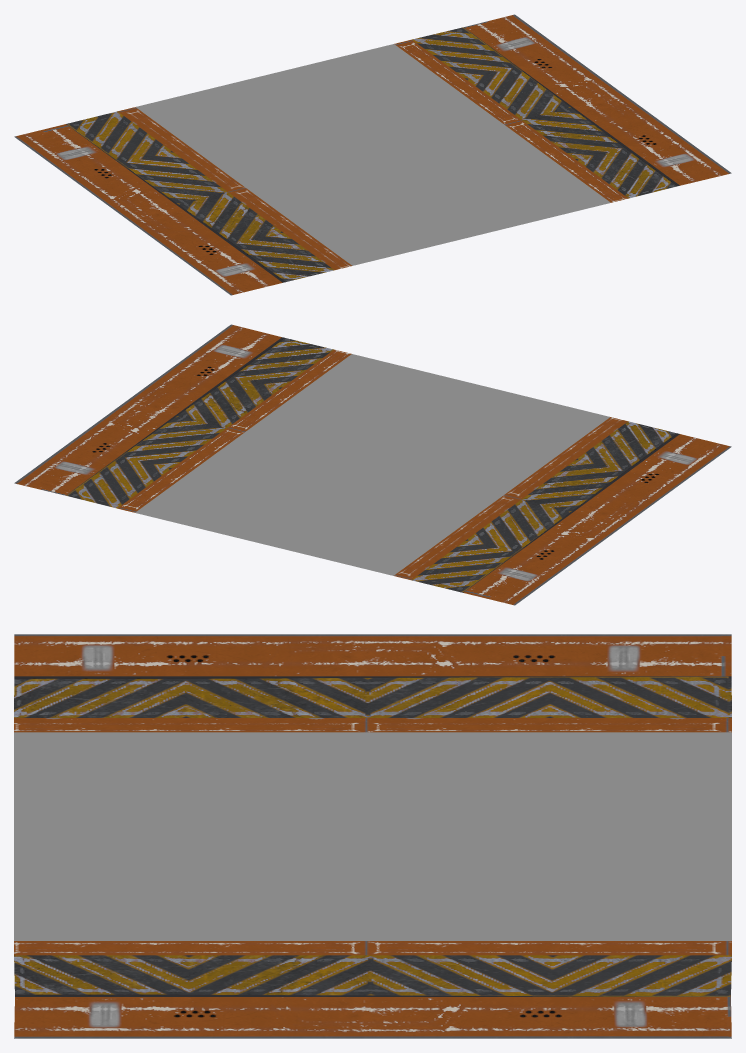
File: floor_s.FBX
3 renders of one model, top to bottom at view 1: azimuth 30°, elevation 25°; view 2: azimuth 150°, elevation 25°; view 3: azimuth 270°, elevation 25°, orthographic. The views are drawn at different scales.
Visible parts, largest first — view 1: Object018; view 2: Object018; view 3: Object018.
Boxes of the visible parts, x1,y1,x2,y2 form: Object018: (14, 14, 731, 295); Object018: (14, 324, 731, 605); Object018: (14, 634, 731, 1038).
Bounding box in the file's own units: 400 × 7.15e-05 × 300.
